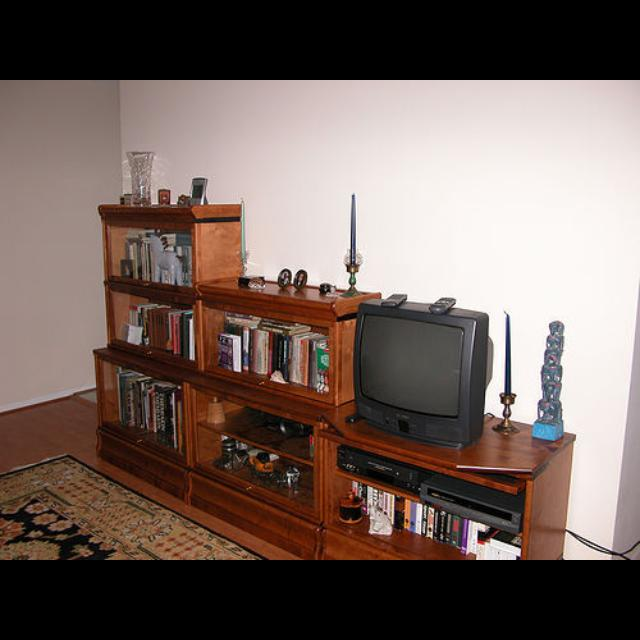Flat-Panel-TV: (353, 298, 494, 450)
TV-Remote-Control: (431, 296, 457, 315), (381, 295, 407, 307)
